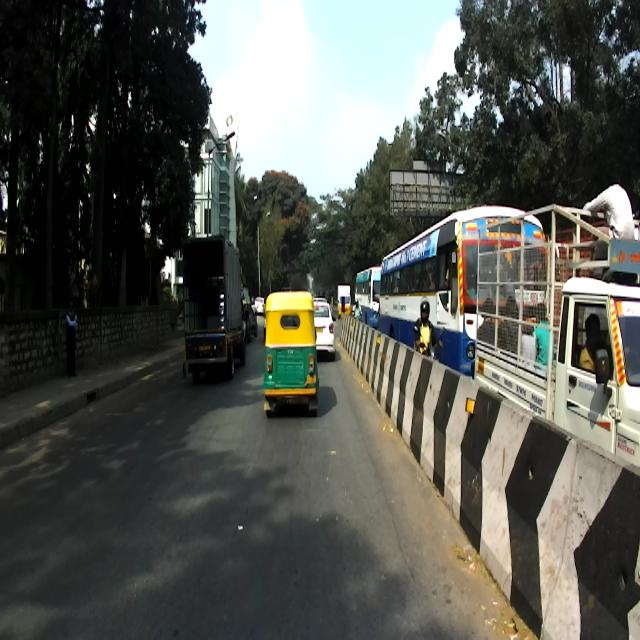auto ahead at: (262, 290, 320, 420)
truck ahead at: (182, 232, 248, 382)
